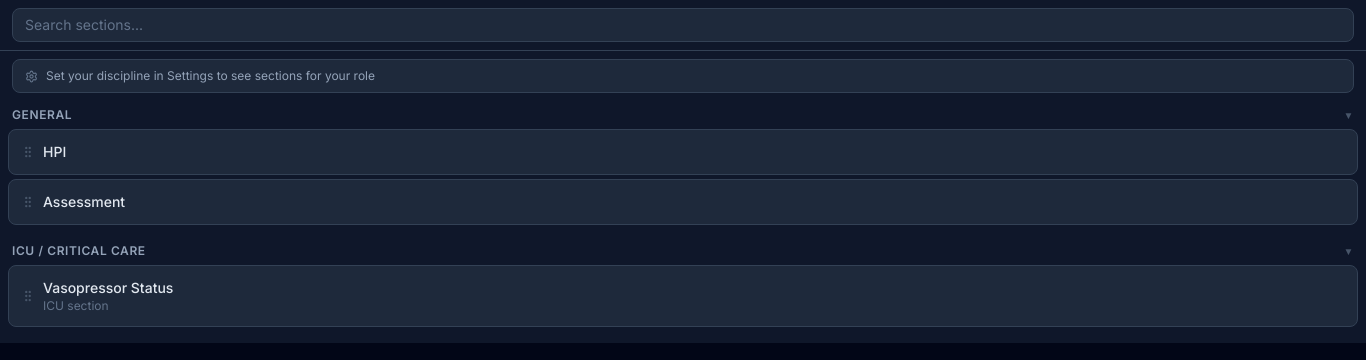
Test case: SectionLibrary › has a search input that filters sections
Expected: the text "HPI" is shown, [43, 143, 66, 160]
Step 1. Type "vasopressor" into the field with placeholder "Search sections..." → (683, 25), box [12, 8, 1354, 42]
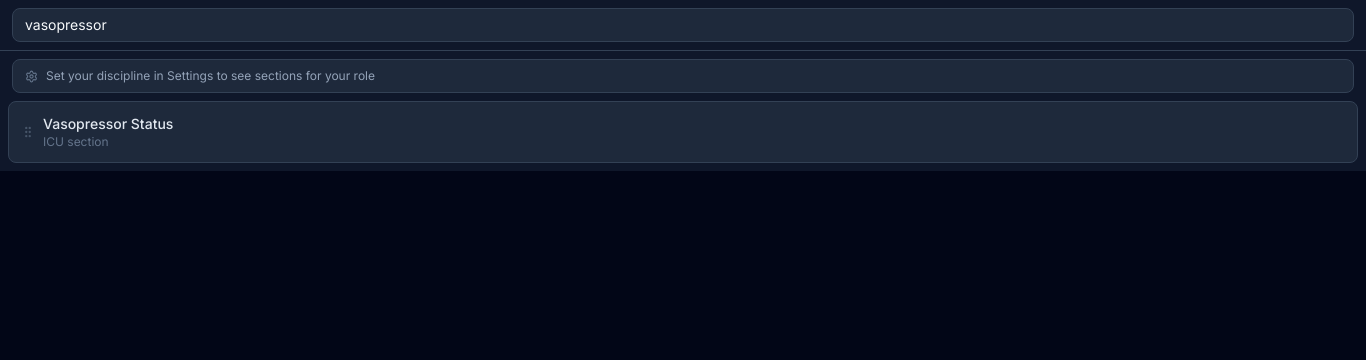
Expected: the text "Vasopressor Status" is shown, [43, 115, 173, 132]
Expected: the button "HPI" is gone
